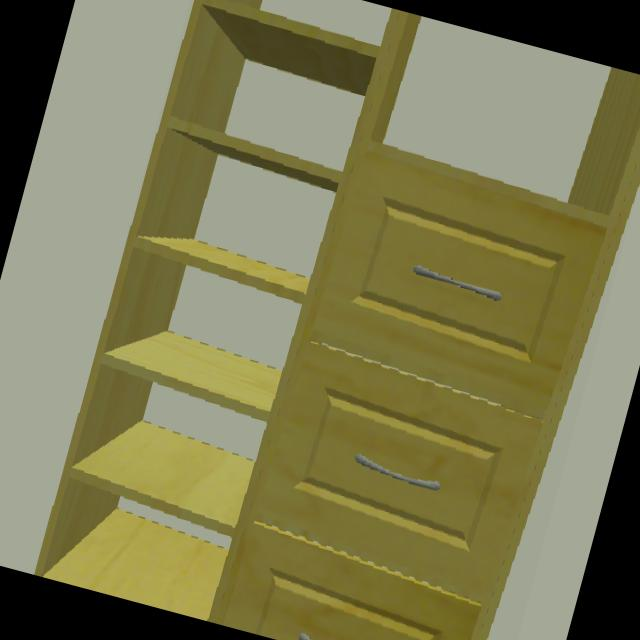shelf: (35, 0, 640, 640)
